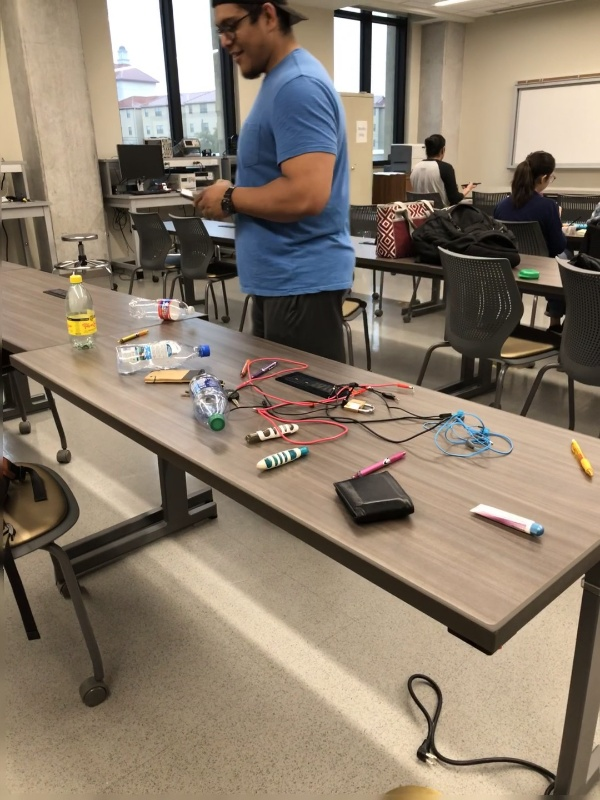bottle: (110, 337, 212, 378), (60, 269, 99, 350), (186, 370, 230, 433), (120, 295, 199, 323)
